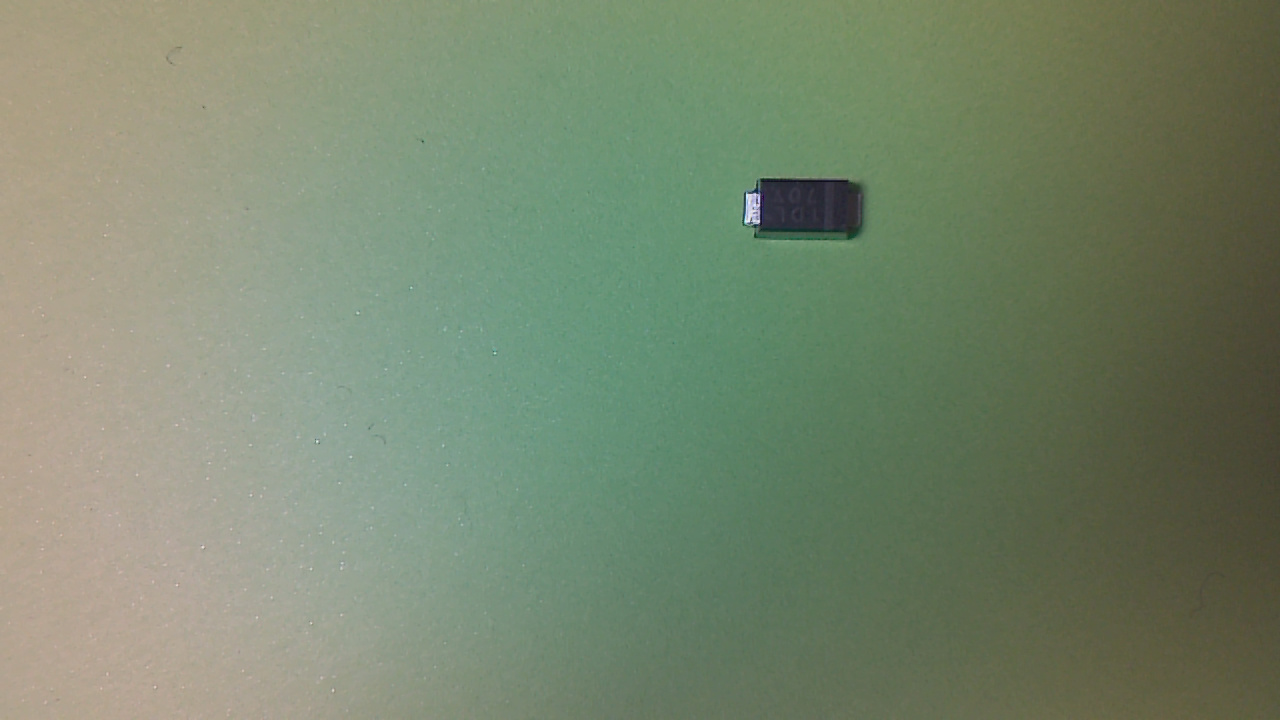Diode: (744, 179, 872, 245)
